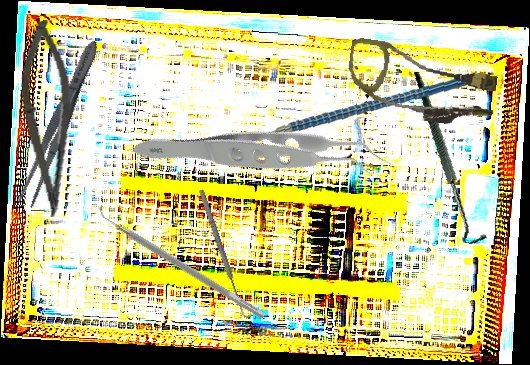Cannula: (342, 36, 501, 131)
Chopper: (230, 60, 469, 175)
Dressing Forceps: (13, 36, 106, 211)
Hook Surgical: (386, 71, 514, 247), (196, 186, 254, 321)
Micro Scissor: (12, 18, 86, 219)
Spatula Surgical: (92, 203, 271, 320)
Tissue Forceps: (131, 39, 395, 276)
